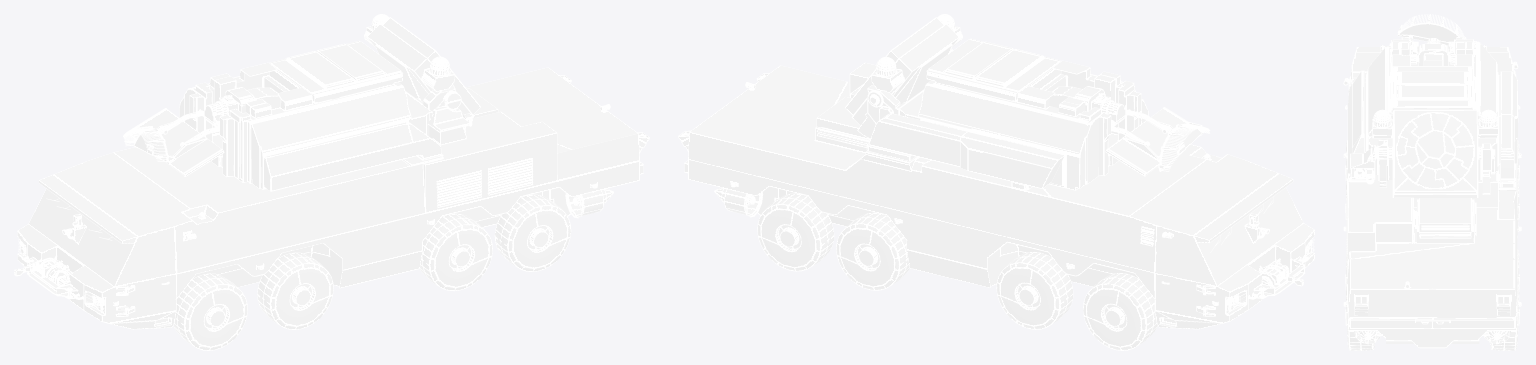
File: skksh_test.glb
3 renders of one model, left to right at view 1: azimuth 30°, elevation 25°; view 2: azimuth 150°, elevation 25°; view 3: azimuth 270°, elevation 25°, orthographic. The views are drawn at different scales.
Visible parts, largest first — view 1: SKKSH LP.001; view 2: SKKSH LP.001; view 3: SKKSH LP.001.
Part boxes in pixels (box(x1,y1,x2,y2)): SKKSH LP.001: box(14, 14, 649, 350); SKKSH LP.001: box(678, 14, 1314, 350); SKKSH LP.001: box(1343, 14, 1521, 350).
Bounding box in the file's own units: 17.37 × 6.32 × 5.03.
1 material, 1 textured.
